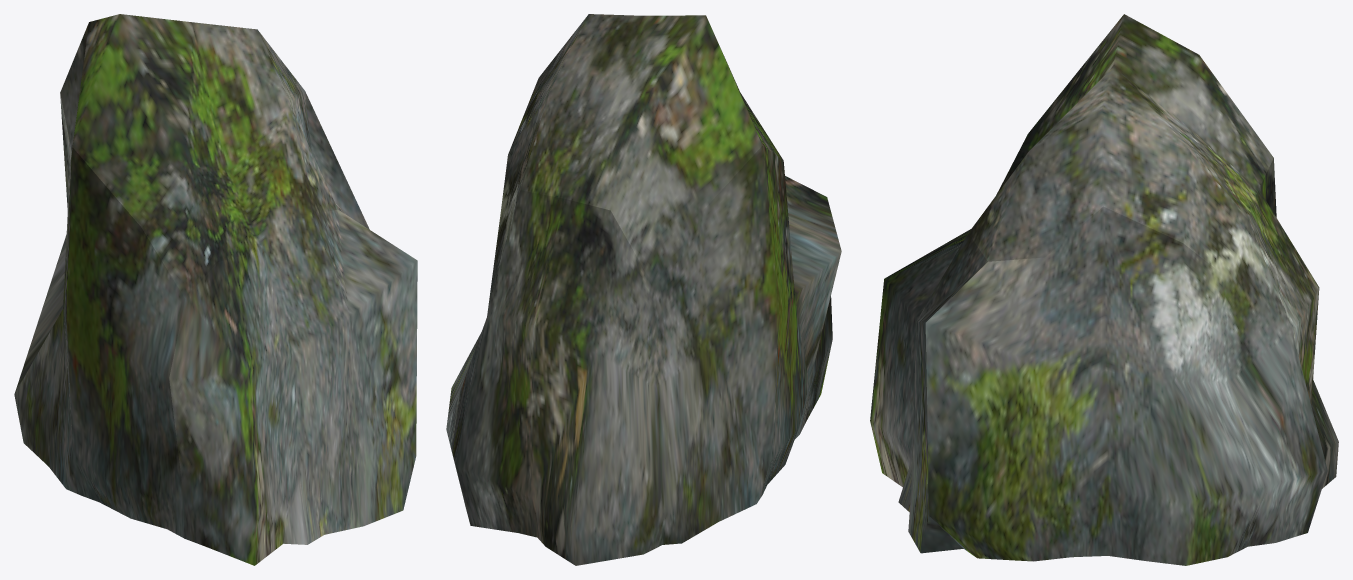
Rendered from Deco.RockC.fbx.
3 renders of one model, left to right at view 1: azimuth 30°, elevation 25°; view 2: azimuth 150°, elevation 25°; view 3: azimuth 270°, elevation 25°, orthographic. The views are drawn at different scales.
Visible parts, largest first — view 1: LP_Rock_02; view 2: LP_Rock_02; view 3: LP_Rock_02.
Part boxes in pixels (x1,y1,x2,y2): LP_Rock_02: [14, 14, 417, 565]; LP_Rock_02: [446, 14, 841, 565]; LP_Rock_02: [870, 14, 1338, 565].
Size of the model in its own units: 106 by 170 by 159.
